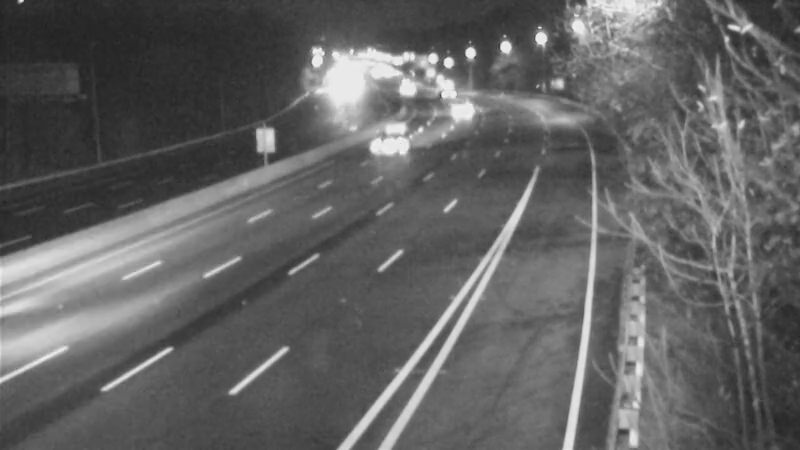vehicle: (422, 62, 472, 112), (440, 87, 490, 137), (370, 121, 420, 171)
